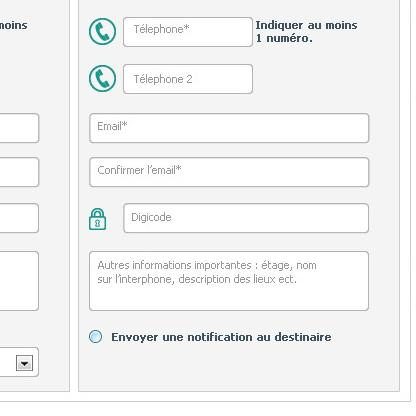field: (88, 249, 372, 312), (87, 155, 372, 190), (89, 112, 372, 145), (122, 201, 371, 235), (120, 62, 256, 96), (122, 15, 254, 49)
radio: (87, 328, 103, 345)
